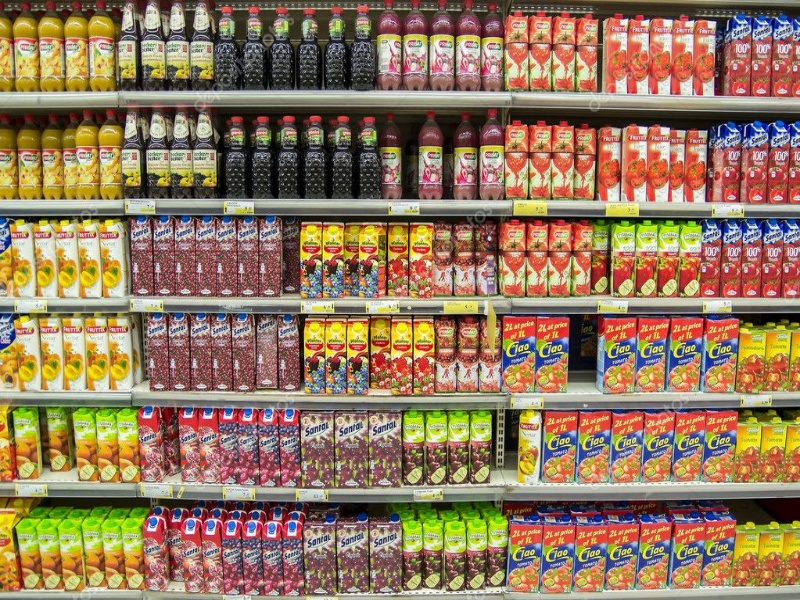juice: (540, 411, 582, 485), (576, 409, 612, 485), (502, 316, 537, 393), (300, 411, 335, 487), (335, 411, 368, 490), (369, 409, 401, 489), (12, 312, 43, 391), (70, 408, 102, 482), (276, 311, 304, 393), (37, 312, 65, 392), (497, 221, 526, 298), (391, 313, 417, 397), (367, 313, 393, 396), (537, 318, 567, 389), (101, 220, 128, 298), (77, 219, 103, 299), (80, 514, 108, 588), (526, 221, 553, 297), (632, 222, 658, 300), (411, 314, 435, 398), (233, 311, 257, 395), (516, 408, 543, 482), (14, 519, 42, 590), (483, 514, 509, 589), (210, 312, 234, 393), (84, 313, 109, 390), (62, 316, 87, 393), (177, 409, 203, 483), (295, 224, 321, 298), (698, 228, 724, 302), (345, 318, 369, 397), (550, 224, 575, 299), (54, 222, 78, 300), (255, 411, 280, 485), (679, 220, 703, 297), (59, 518, 85, 589), (321, 222, 345, 298), (610, 219, 633, 298), (469, 411, 493, 486), (190, 310, 211, 395), (167, 313, 190, 390), (572, 221, 595, 298), (198, 405, 220, 485), (402, 409, 425, 485), (425, 408, 448, 484), (687, 126, 709, 205), (442, 518, 466, 590), (409, 226, 432, 301), (740, 218, 761, 299), (593, 129, 617, 199), (658, 220, 680, 296), (723, 221, 745, 297), (464, 518, 488, 587), (424, 518, 446, 593), (624, 126, 646, 199), (110, 313, 130, 393), (328, 318, 348, 397), (280, 411, 300, 488), (38, 519, 60, 588), (140, 409, 161, 480), (403, 521, 424, 590), (649, 126, 668, 202), (122, 518, 141, 591), (103, 518, 122, 589), (99, 411, 116, 481)
